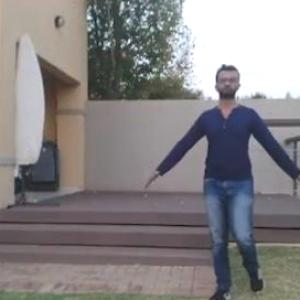land: (150, 71, 300, 299)
